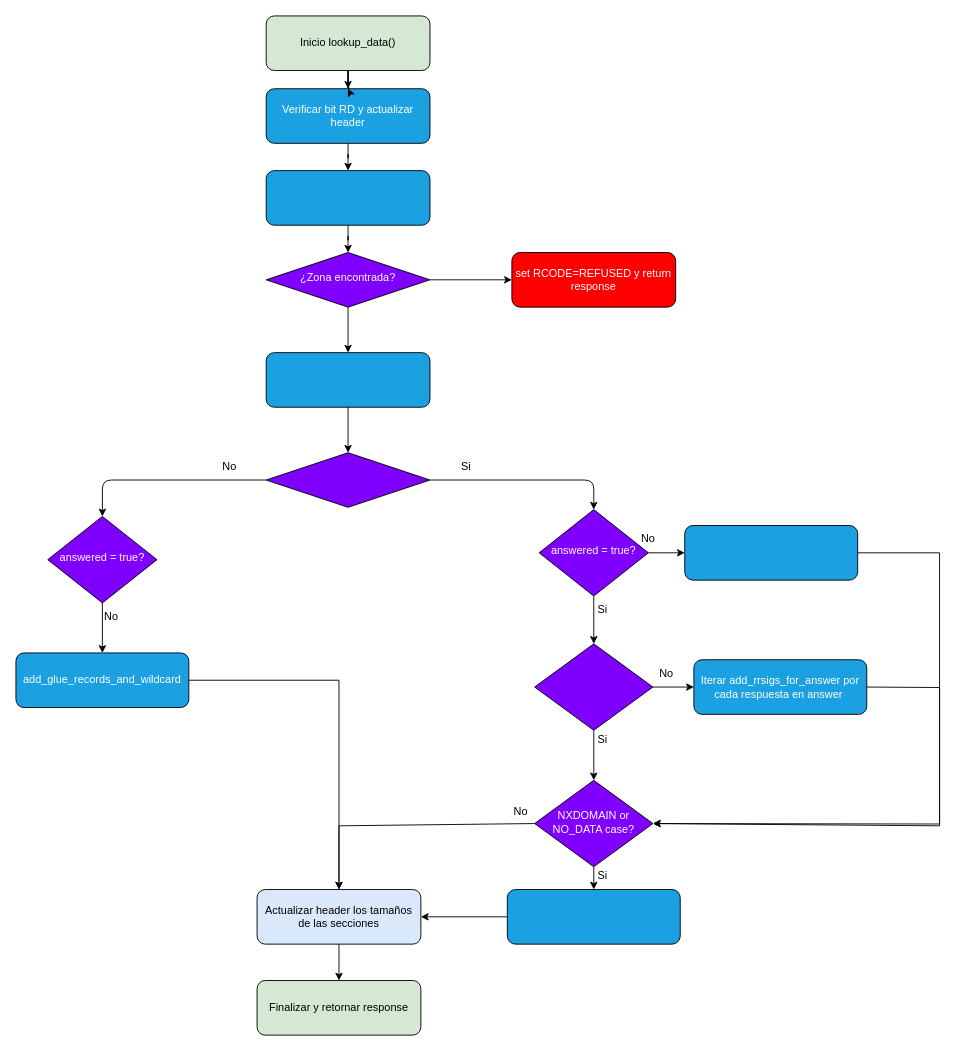
Some shapes in this 963 by 1051 pixel diagram are drawn without their labels. Each missing label, with the centre of its shape:
add_glue_records_and_wildcard add_rrsigs_for_delegation: the point at 771,552
add_nsec_proofs: the point at 593,916
find_zone_in_catalog(qname, qtype): the point at 347,197
original_query = true?: the point at 593,686
resolve_qname_in_zone(...) -> (answered, original_query): the point at 347,379
¿DNSSEC activo?: the point at 347,479
